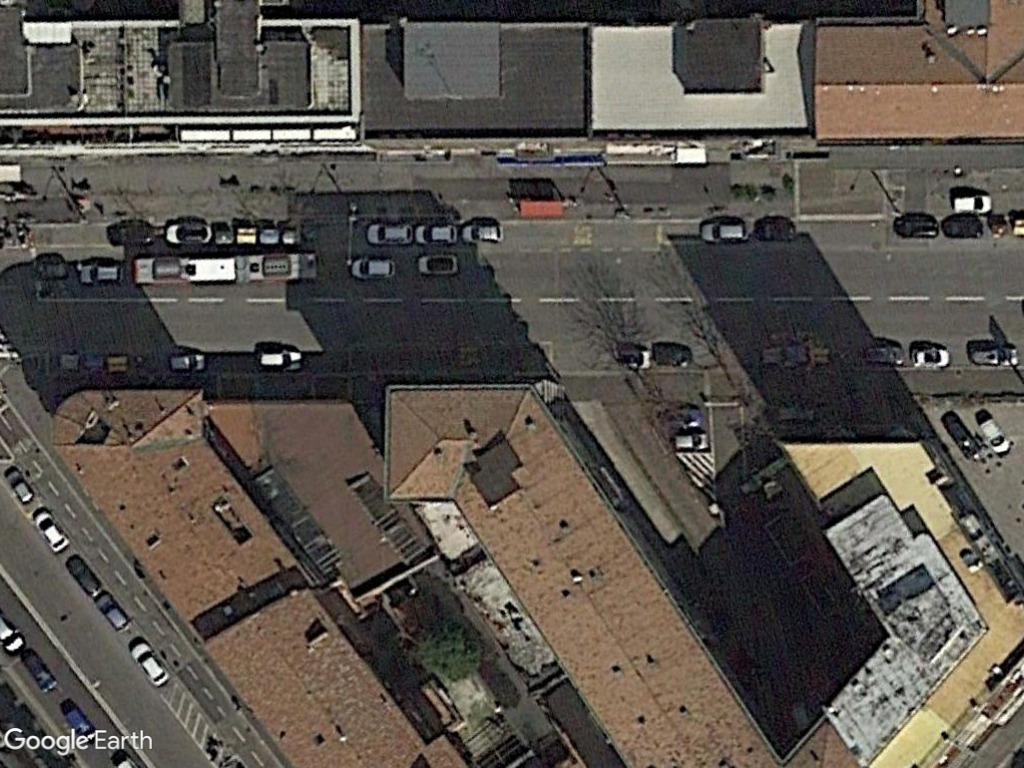bus: (132, 247, 325, 292)
car: (62, 545, 107, 602), (128, 636, 170, 689), (33, 507, 74, 559), (93, 587, 135, 637), (359, 216, 416, 249), (974, 414, 1015, 458), (345, 253, 400, 285), (965, 340, 1021, 371), (696, 217, 755, 246), (253, 346, 308, 376), (75, 261, 130, 290), (1, 463, 37, 507), (414, 249, 464, 280), (162, 219, 216, 247), (948, 190, 996, 217), (906, 343, 954, 370), (458, 220, 510, 244), (165, 348, 211, 375), (670, 425, 714, 453), (410, 222, 463, 245)
